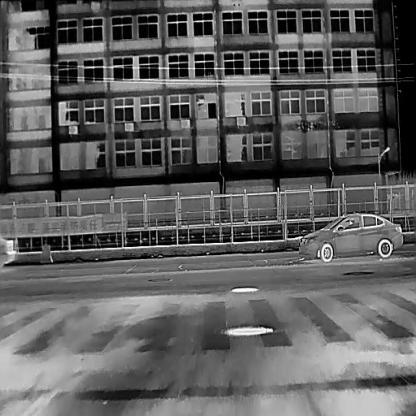car: (298, 210, 403, 262), (0, 227, 17, 271)
